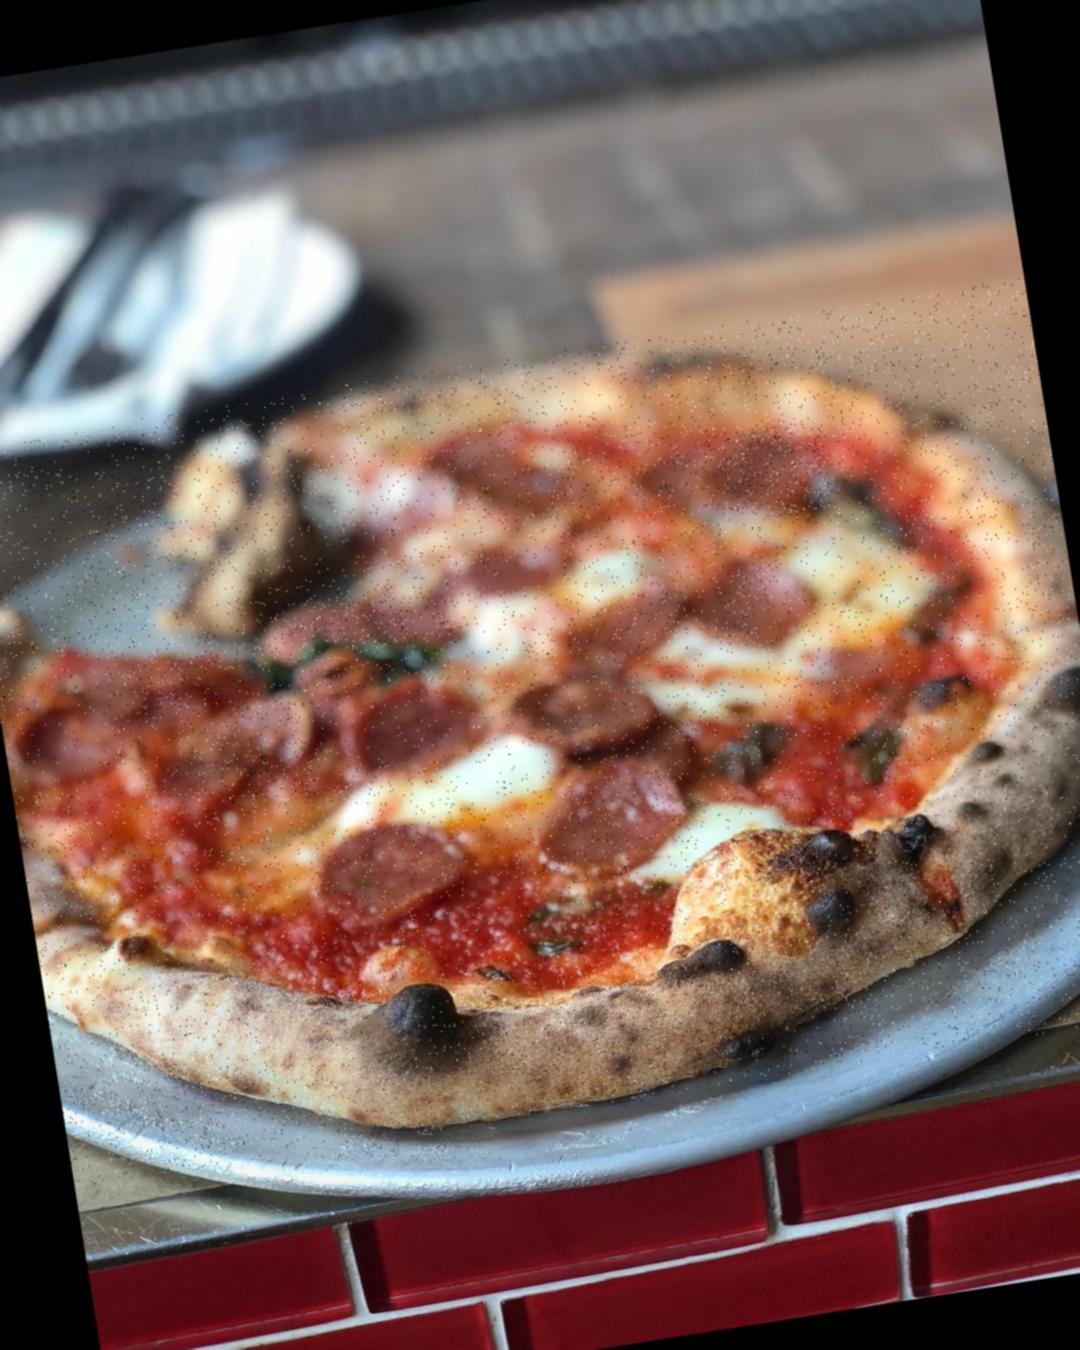Pepperoni: (313, 811, 469, 936), (505, 647, 659, 770), (252, 580, 458, 670), (173, 699, 314, 830), (331, 670, 480, 780), (531, 773, 674, 875), (713, 419, 832, 523), (17, 689, 120, 799), (443, 422, 557, 522), (701, 557, 796, 646), (563, 595, 691, 654), (628, 450, 717, 529), (475, 532, 574, 601), (125, 652, 220, 715)
Pizza: (0, 277, 1080, 1187)
